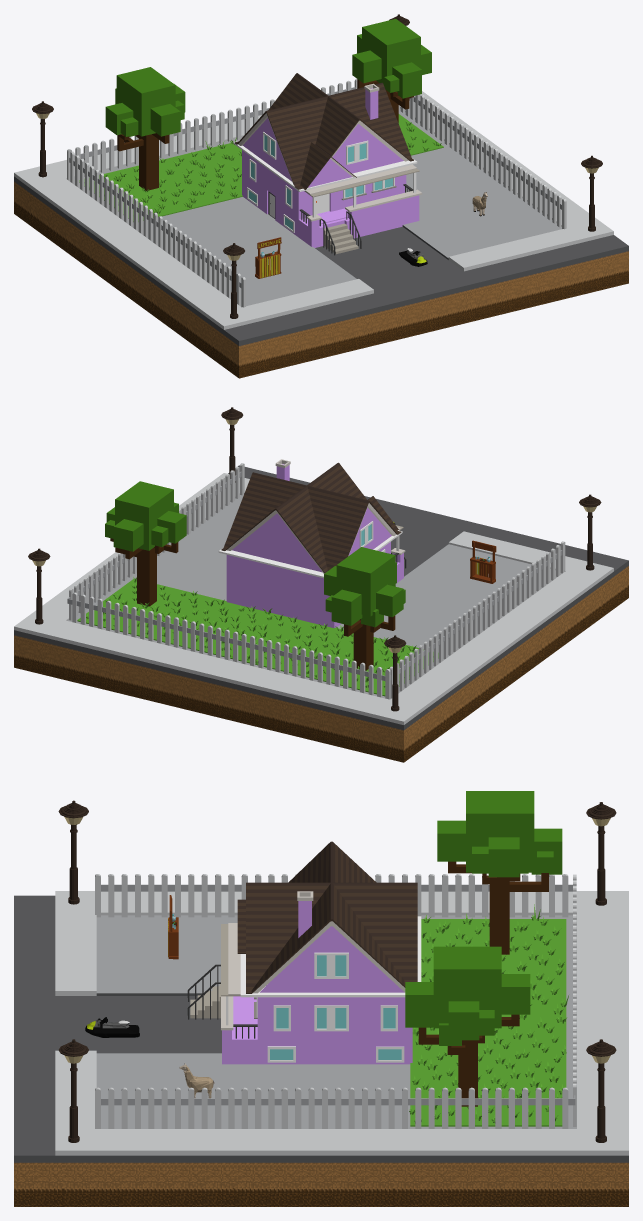
3 views of the same model, one above another, from view 1: azimuth 30°, elevation 25°; view 2: azimuth 150°, elevation 25°; view 3: azimuth 270°, elevation 25° (orthographic). The views are drawn at different scales.
Visible parts, largest first — view 1: Cube.004, Cube.391, OBJRANDOM_LEMONADE_STAND; view 2: Cube.004, Cube.391, OBJRANDOM_LEMONADE_STAND; view 3: Cube.004, Cube.391, VEHICLES_WATERBIKE.
Boxes of the visible parts, x1,y1,x2,y2 form: Cube.004: [14, 14, 628, 378]; Cube.391: [233, 73, 422, 255]; OBJRANDOM_LEMONADE_STAND: [255, 237, 281, 278]; Cube.004: [14, 407, 628, 762]; Cube.391: [218, 459, 406, 627]; OBJRANDOM_LEMONADE_STAND: [470, 540, 496, 583]; Cube.004: [14, 791, 628, 1206]; Cube.391: [187, 841, 421, 1064]; VEHICLES_WATERBIKE: [85, 1017, 139, 1037].
Size of the model in its own units: 4000 by 1601 by 4000.
Materials: 38 (3 with a texture image).
